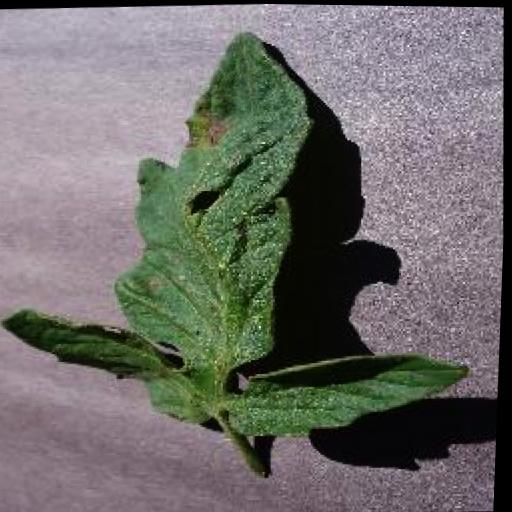Early Blight: (0, 20, 483, 455)
